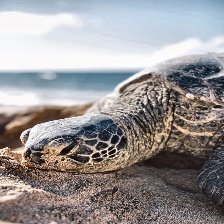seaturtle: (3, 62, 223, 191)
